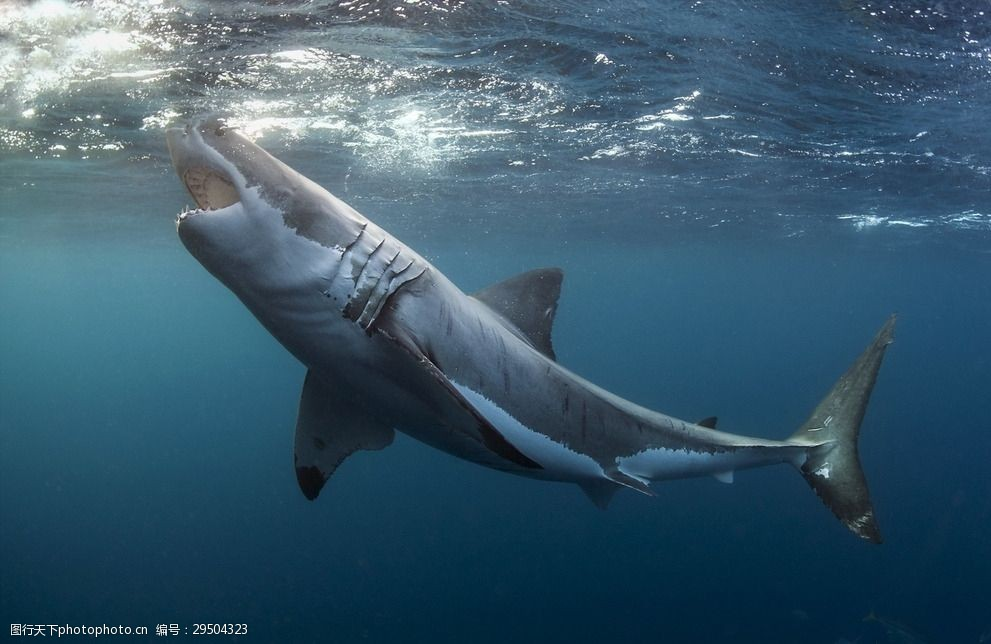shark: (143, 79, 940, 562)
